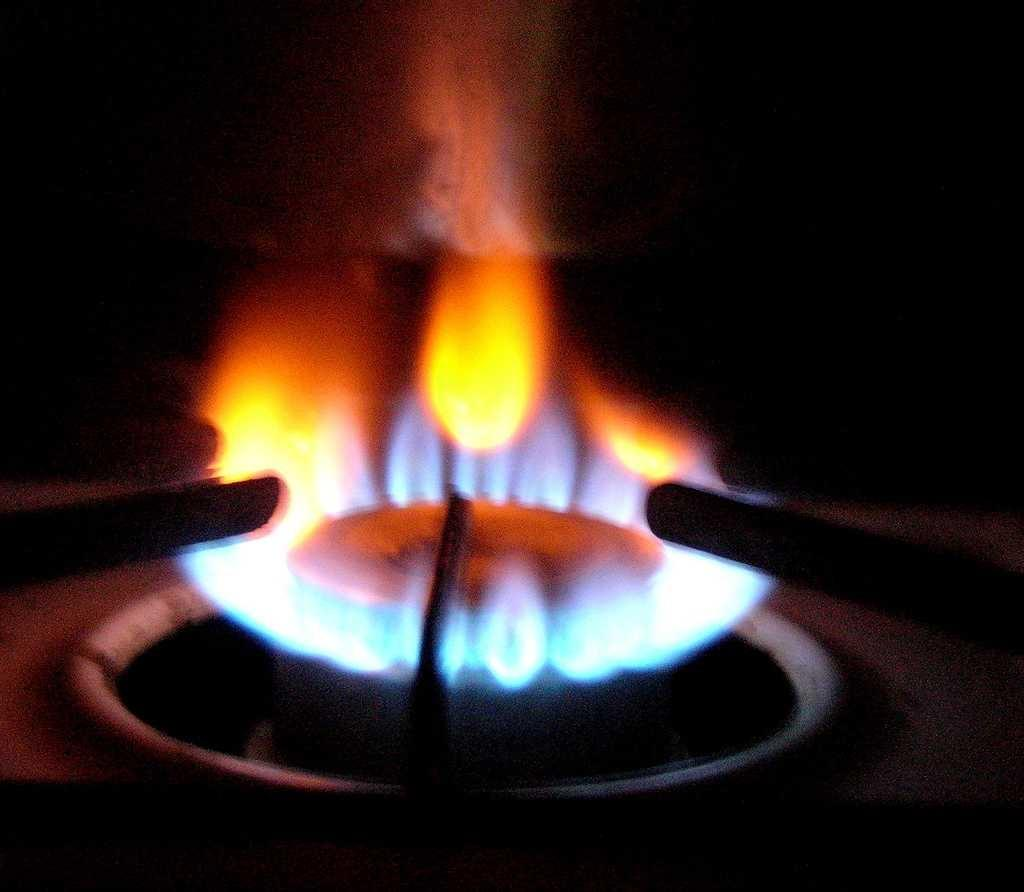fire: (221, 428, 751, 648), (250, 250, 576, 399)
